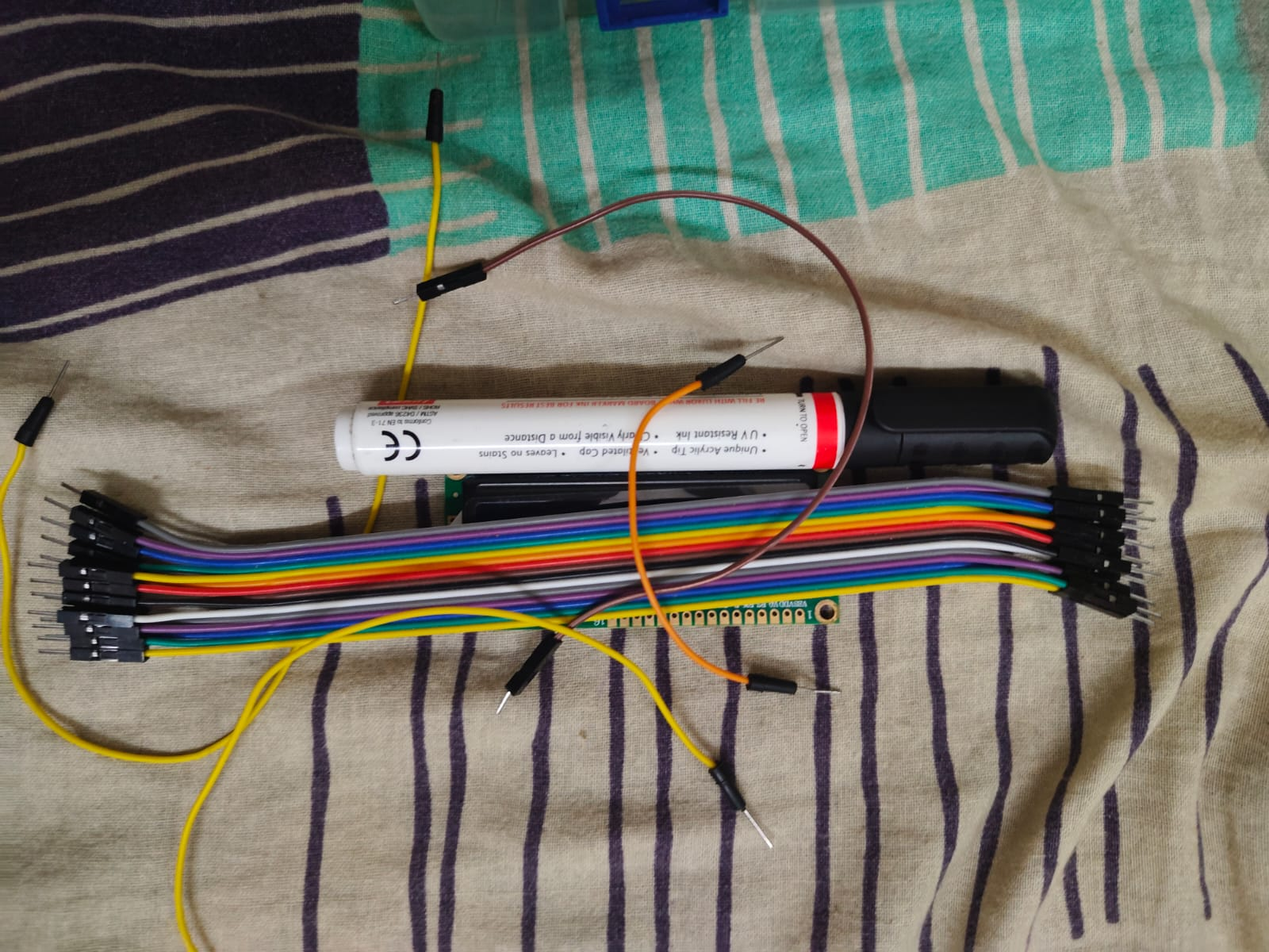case: (324, 344, 1071, 486)
